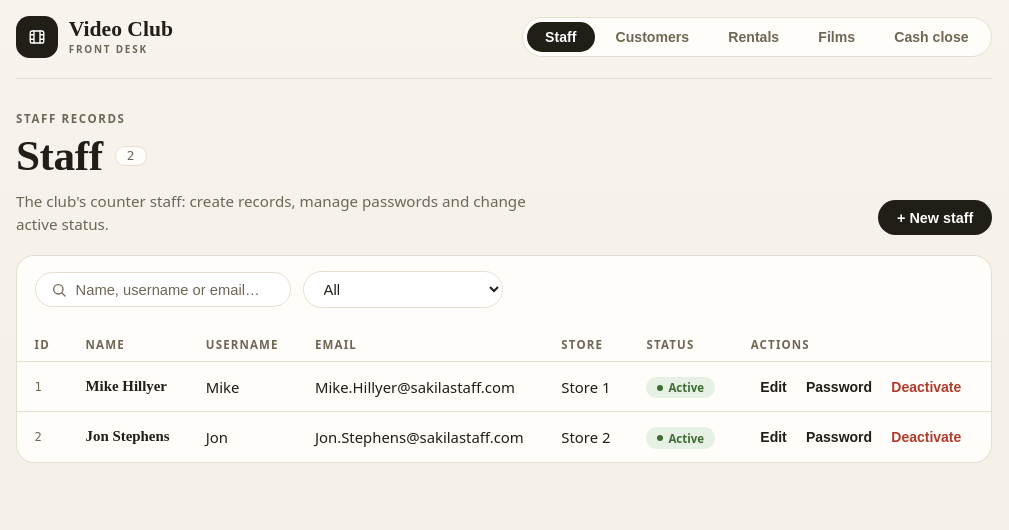
Test: App mutations › reports a failed deactivate at page level (no modal open)
Check: the text "Mike Hillyer" is shown, box [68, 361, 188, 412]
Click the button "Deactivate" in the row of "Mike Hillyer". click: x=926, y=387
box: [883, 375, 969, 398]
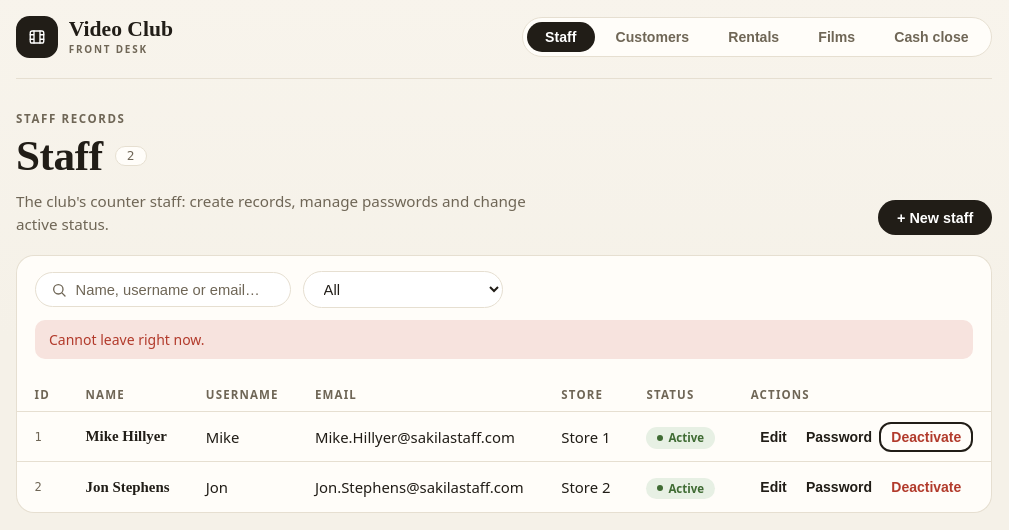
Check: the text "Cannot leave right now." is shown, box [35, 320, 973, 359]
